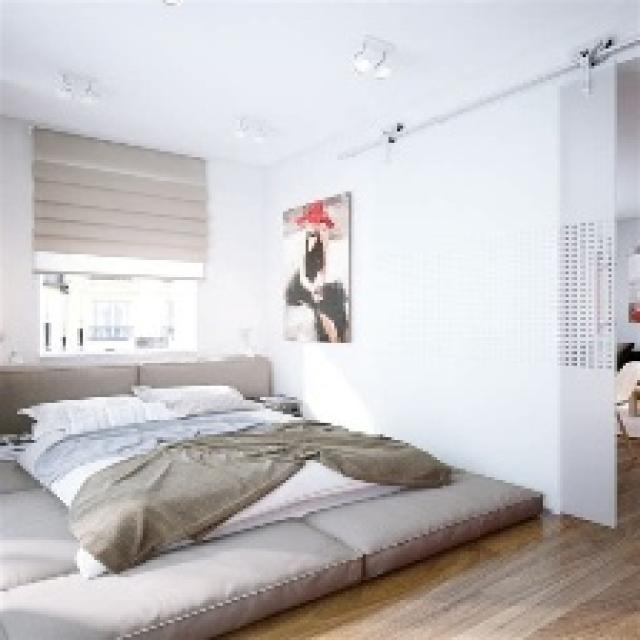Bed: (0, 354, 543, 637)
